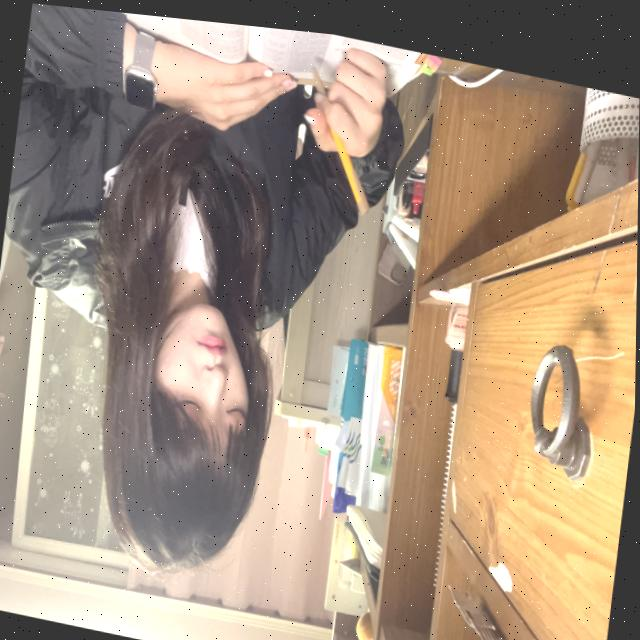studying-person: (0, 0, 470, 635)
